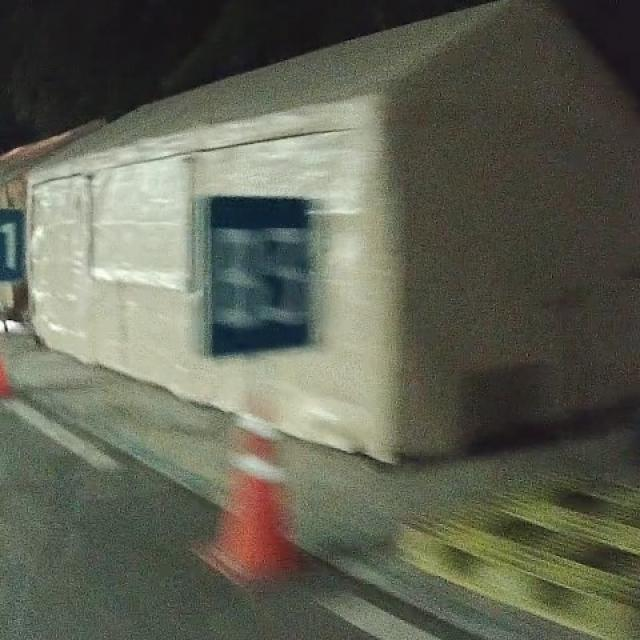a3: (196, 189, 319, 364)
